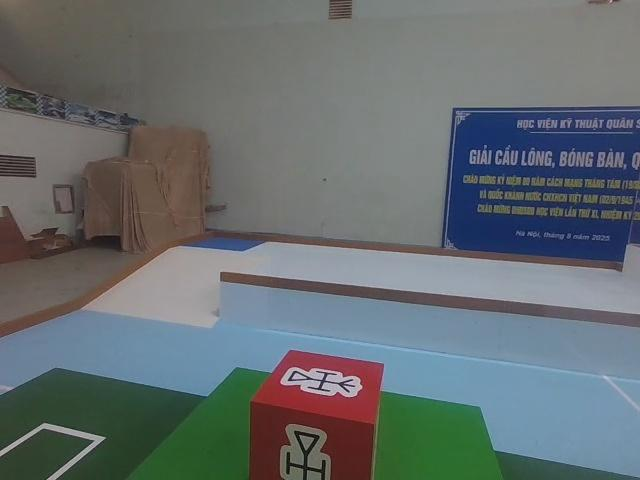R2 Real: (251, 349, 385, 480)
